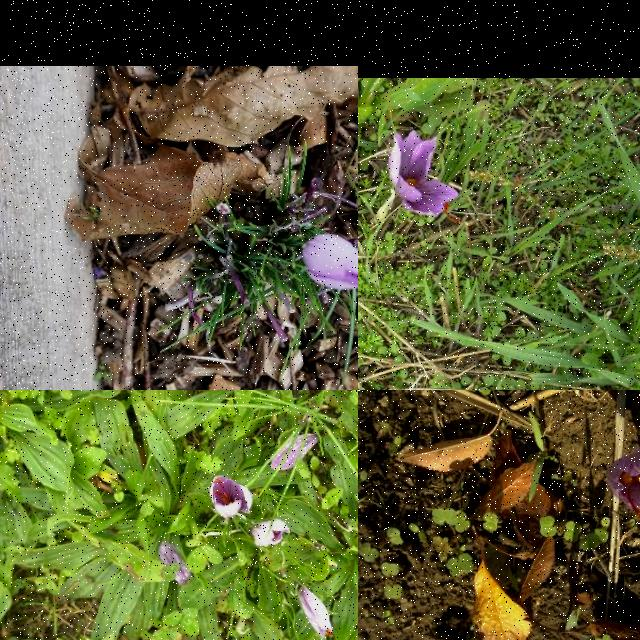flower: (388, 130, 460, 222), (301, 234, 358, 306), (608, 440, 640, 527), (296, 582, 334, 640), (210, 476, 252, 518), (251, 520, 291, 546)
